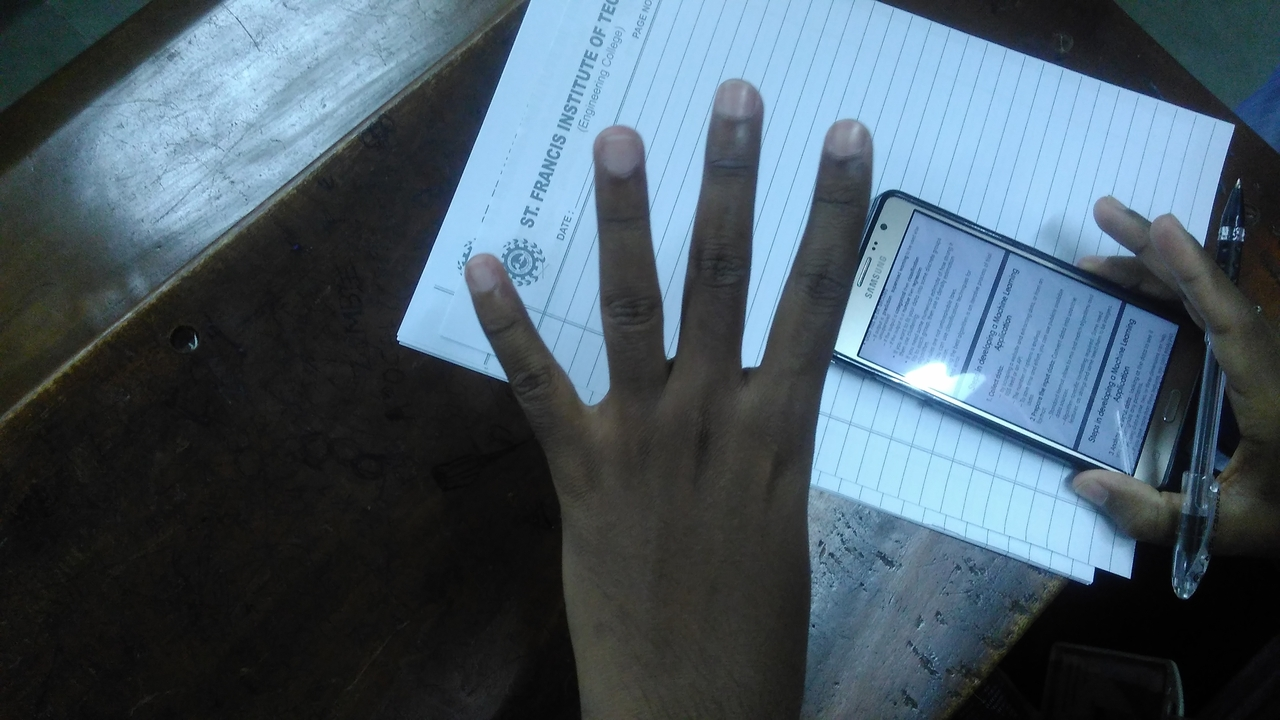fingertip: (584, 124, 652, 186), (704, 80, 772, 130), (820, 116, 886, 166), (458, 254, 516, 306)
